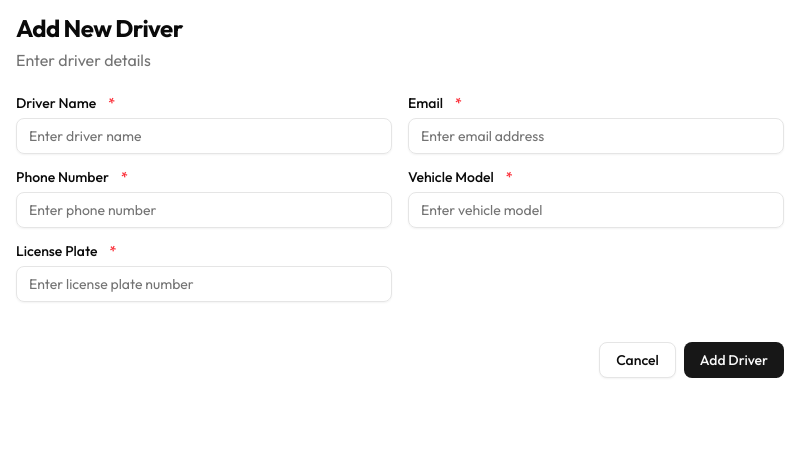
Test case: DriverForm › handles API error responses
The width and height of the screenshot is (801, 461).
Note: Fill in form fields
Type "John Doe" into the field labelled "Driver Name *" at (204, 136), box [16,118,392,154]
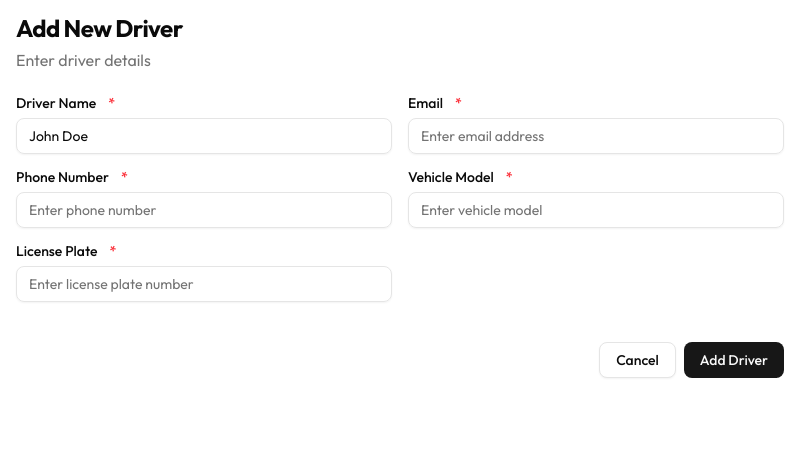
Type "john@example.com" into the field labelled "Email *" at (596, 136), box [408,118,784,154]
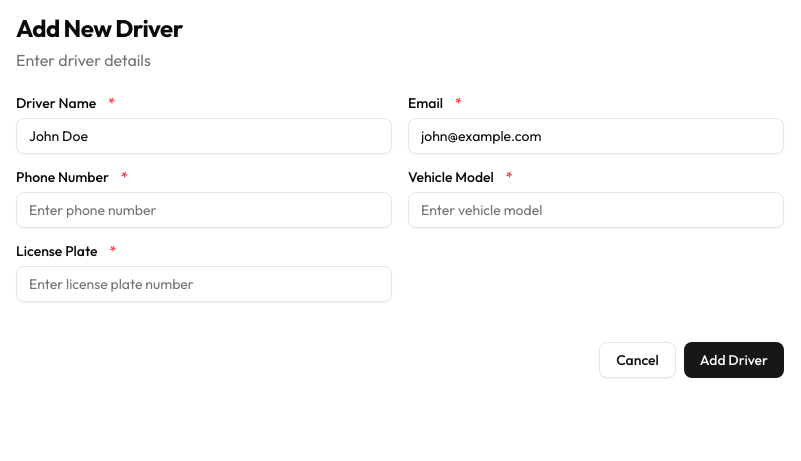
Type "1234567890" into the field labelled "Phone Number *" at (204, 210), box [16,192,392,228]
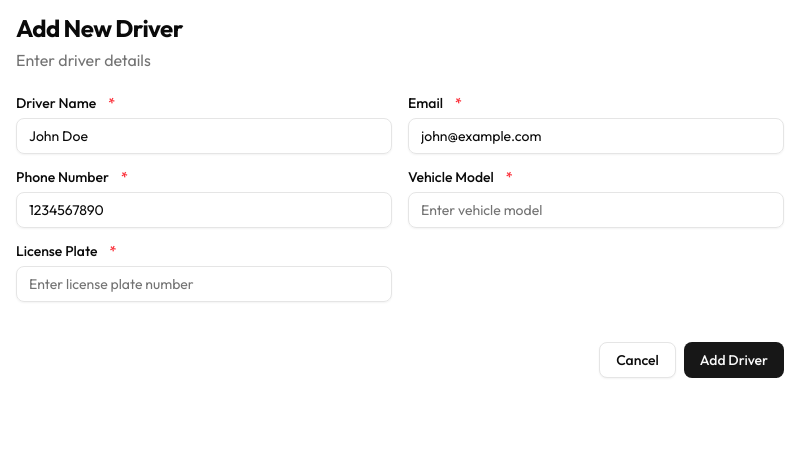
Type "Toyota Camry" into the field labelled "Vehicle Model *" at (596, 210), box [408,192,784,228]
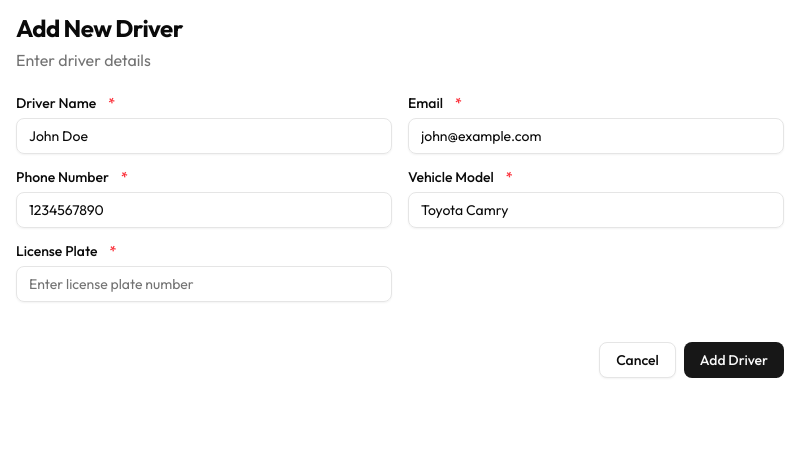
Type "ABC123" into the field labelled "License Plate *" at (204, 284), box [16,266,392,302]
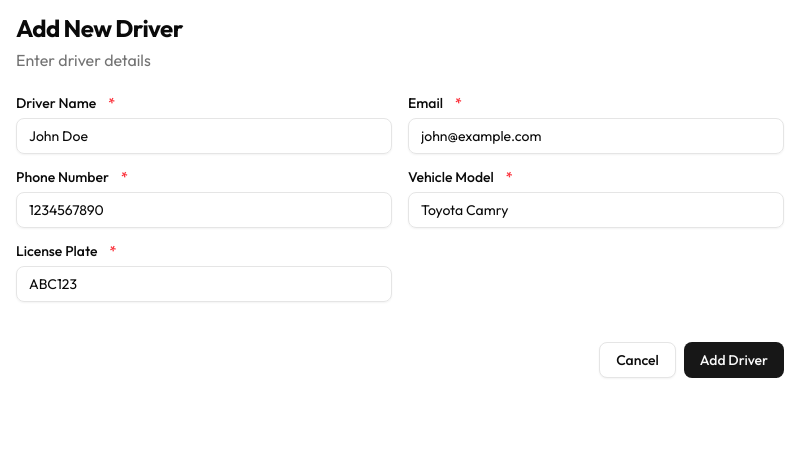
Note: Submit form
Click the button "Add Driver" at (734, 360), box [684,342,784,378]
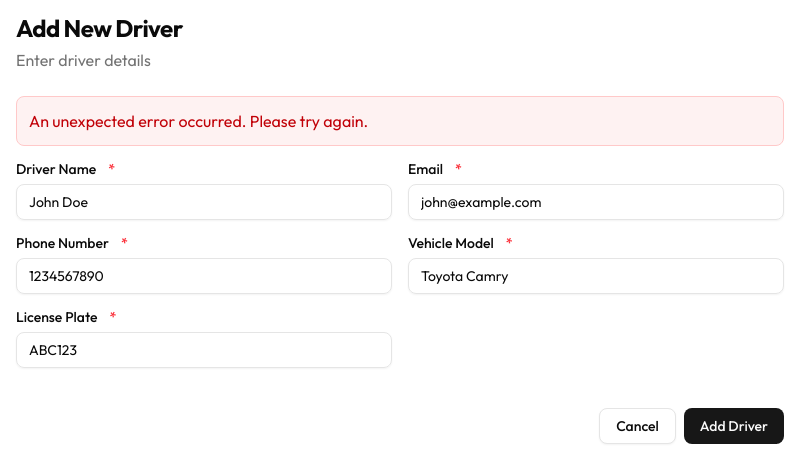
Check: the text "An unexpected error occurred. Please try again." is shown, box [16,96,784,146]
